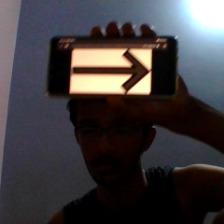right: (72, 48, 150, 94)
